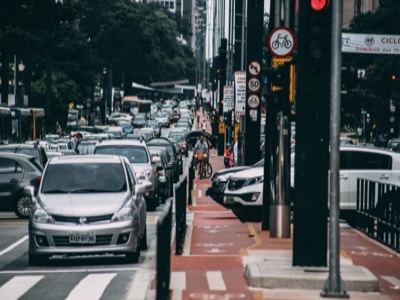licence: (65, 227, 102, 249)
